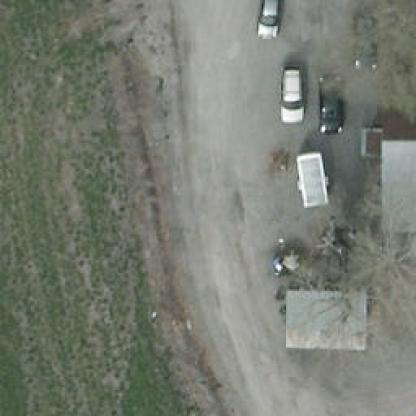camping car: (294, 153, 327, 208)
car: (314, 71, 346, 135), (346, 12, 380, 69), (280, 69, 302, 124), (258, 0, 284, 42)
